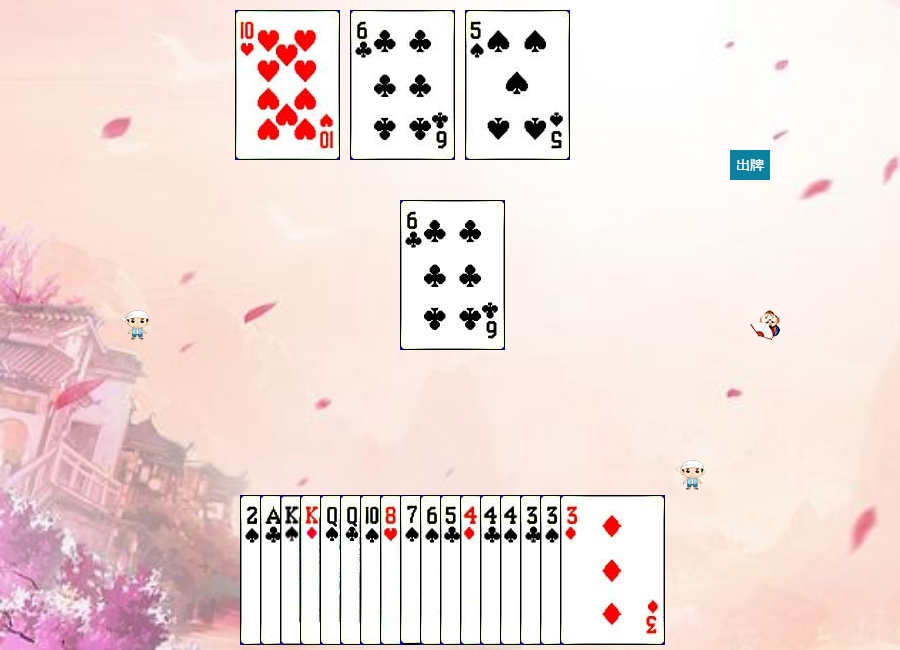10~3: (235, 10, 340, 160)
10~4: (360, 495, 465, 645)
12~2: (340, 495, 445, 645)
12~4: (320, 495, 425, 645)
13~1: (300, 495, 405, 645)
13~4: (280, 495, 385, 645)
14~2: (260, 495, 365, 645)
15~4: (240, 495, 345, 645)
3~1: (560, 495, 665, 645)
3~2: (520, 495, 625, 645)
3~4: (540, 495, 645, 645)
4~1: (460, 495, 565, 645)
4~2: (480, 495, 585, 645)
4~4: (500, 495, 605, 645)
5~2: (440, 495, 545, 645)
5~4: (465, 10, 570, 160)
6~2: (350, 10, 455, 160), (400, 200, 505, 350)
6~4: (420, 495, 525, 645)
7~4: (400, 495, 505, 645)
8~3: (380, 495, 485, 645)
